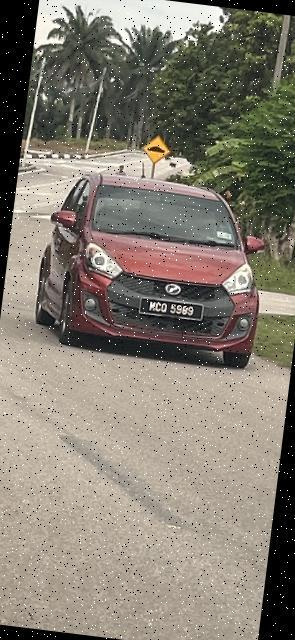License_Plate: (138, 296, 205, 322)
MCQ5989: (138, 296, 205, 322)
car: (34, 166, 272, 370)
